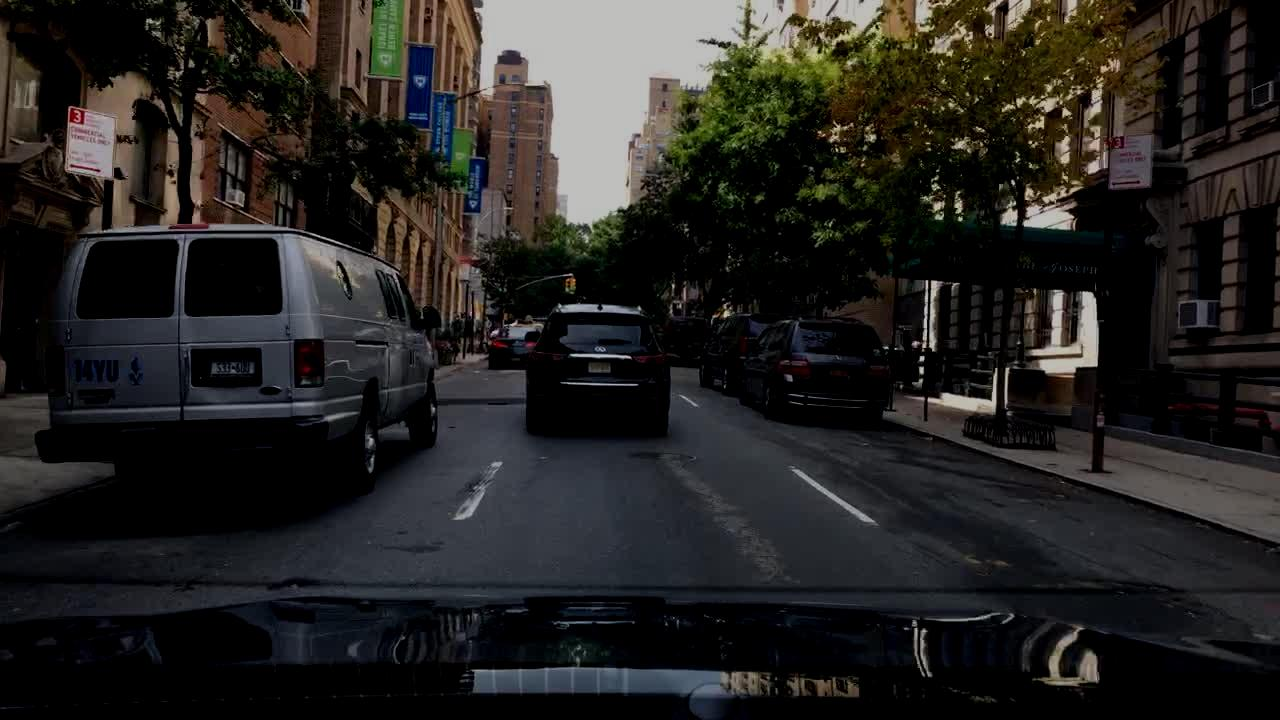Infiniti: (591, 344, 608, 356)
